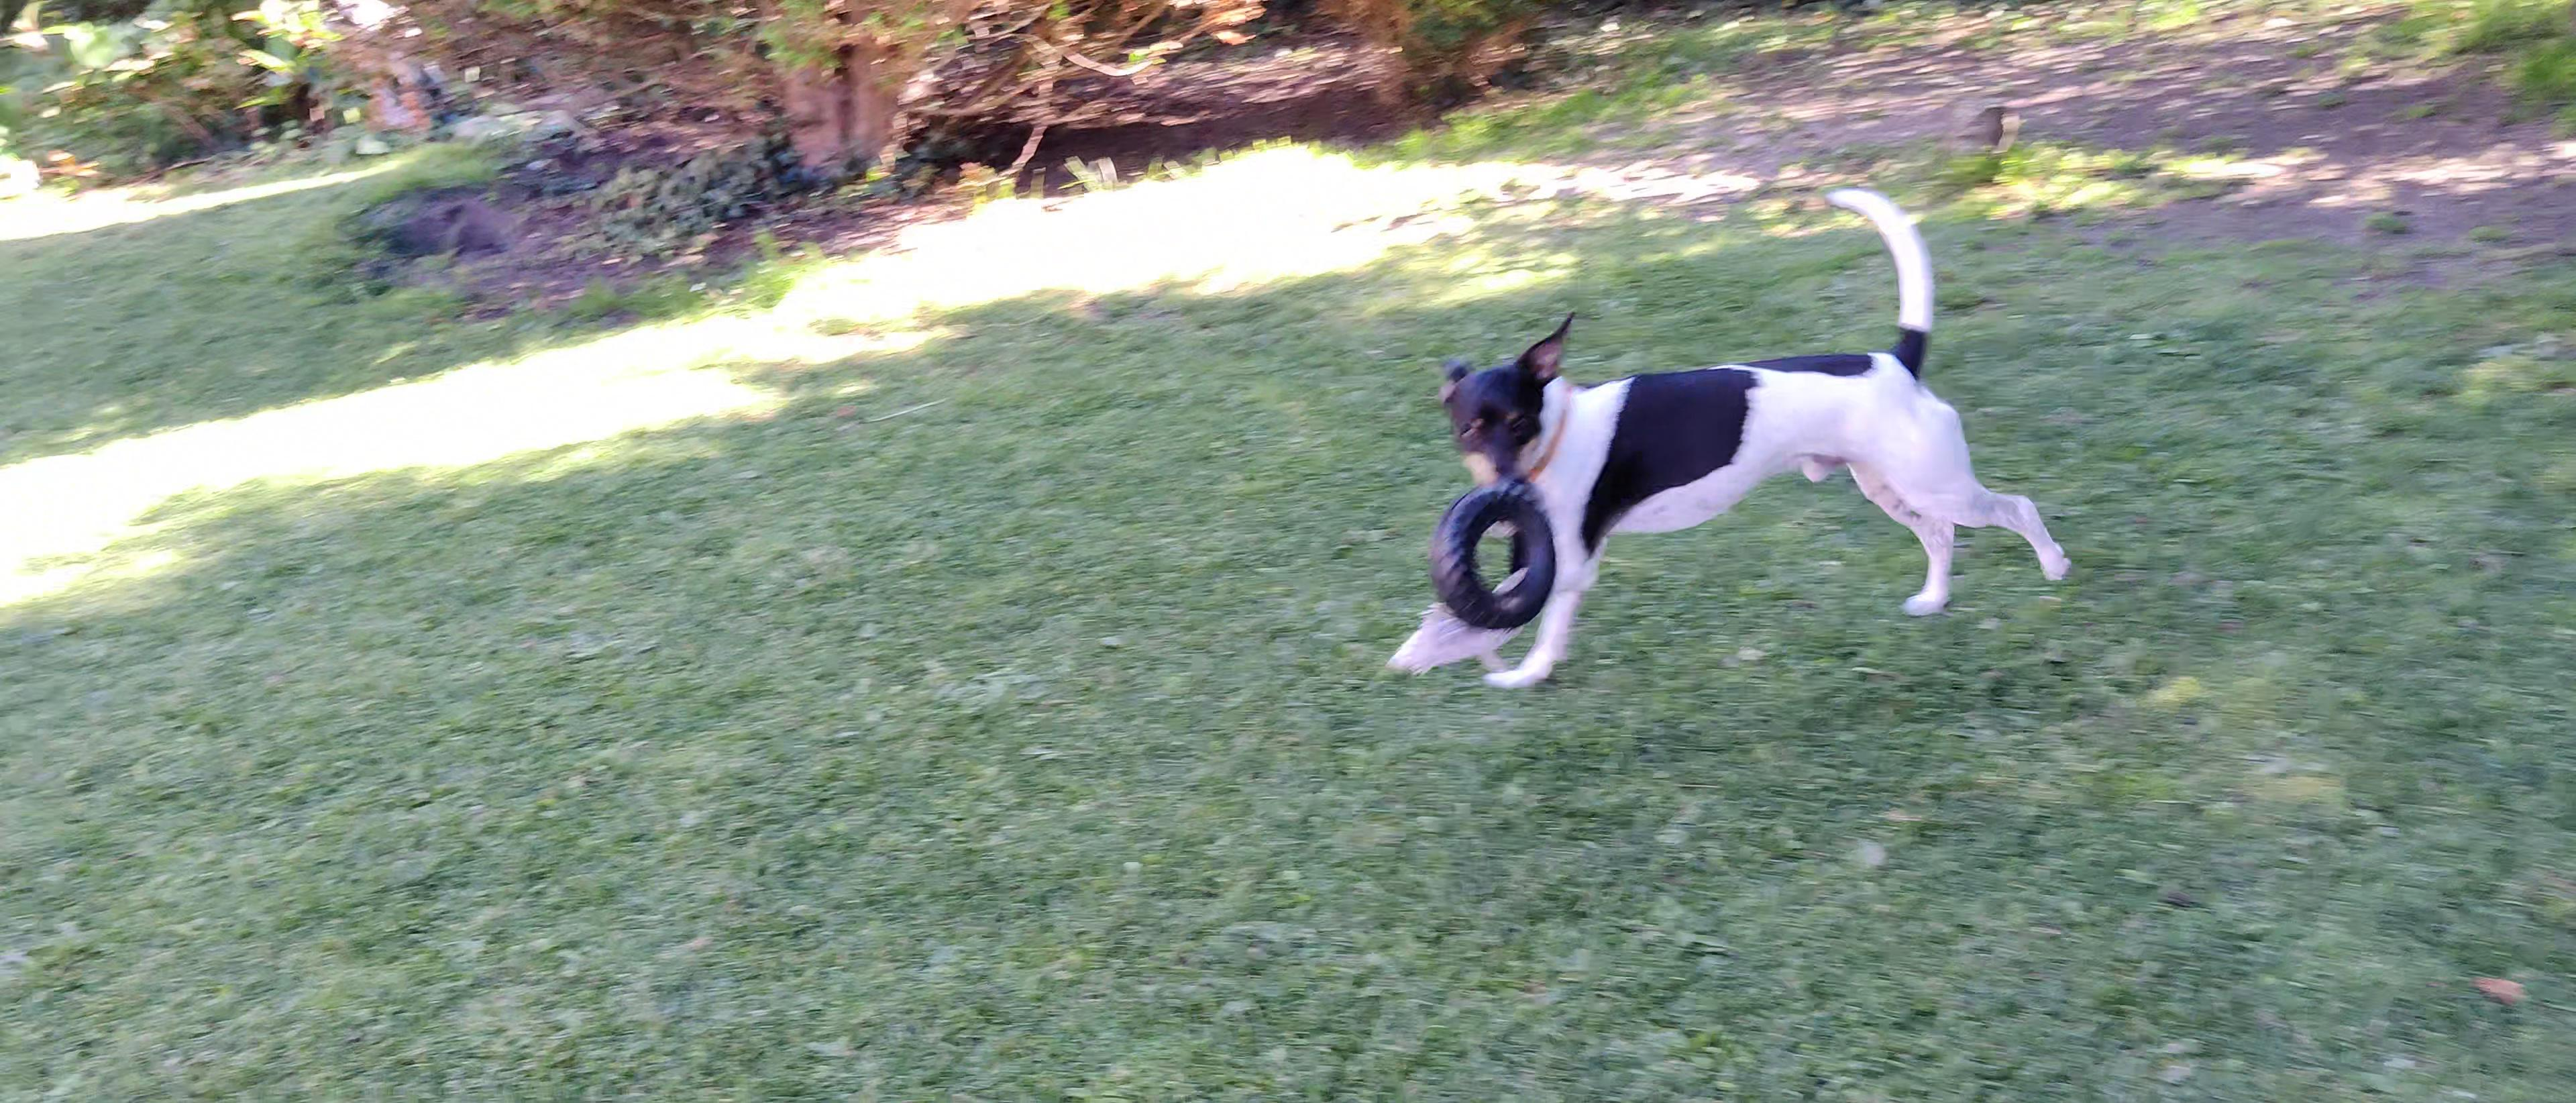Dog: (1382, 181, 2078, 692)
